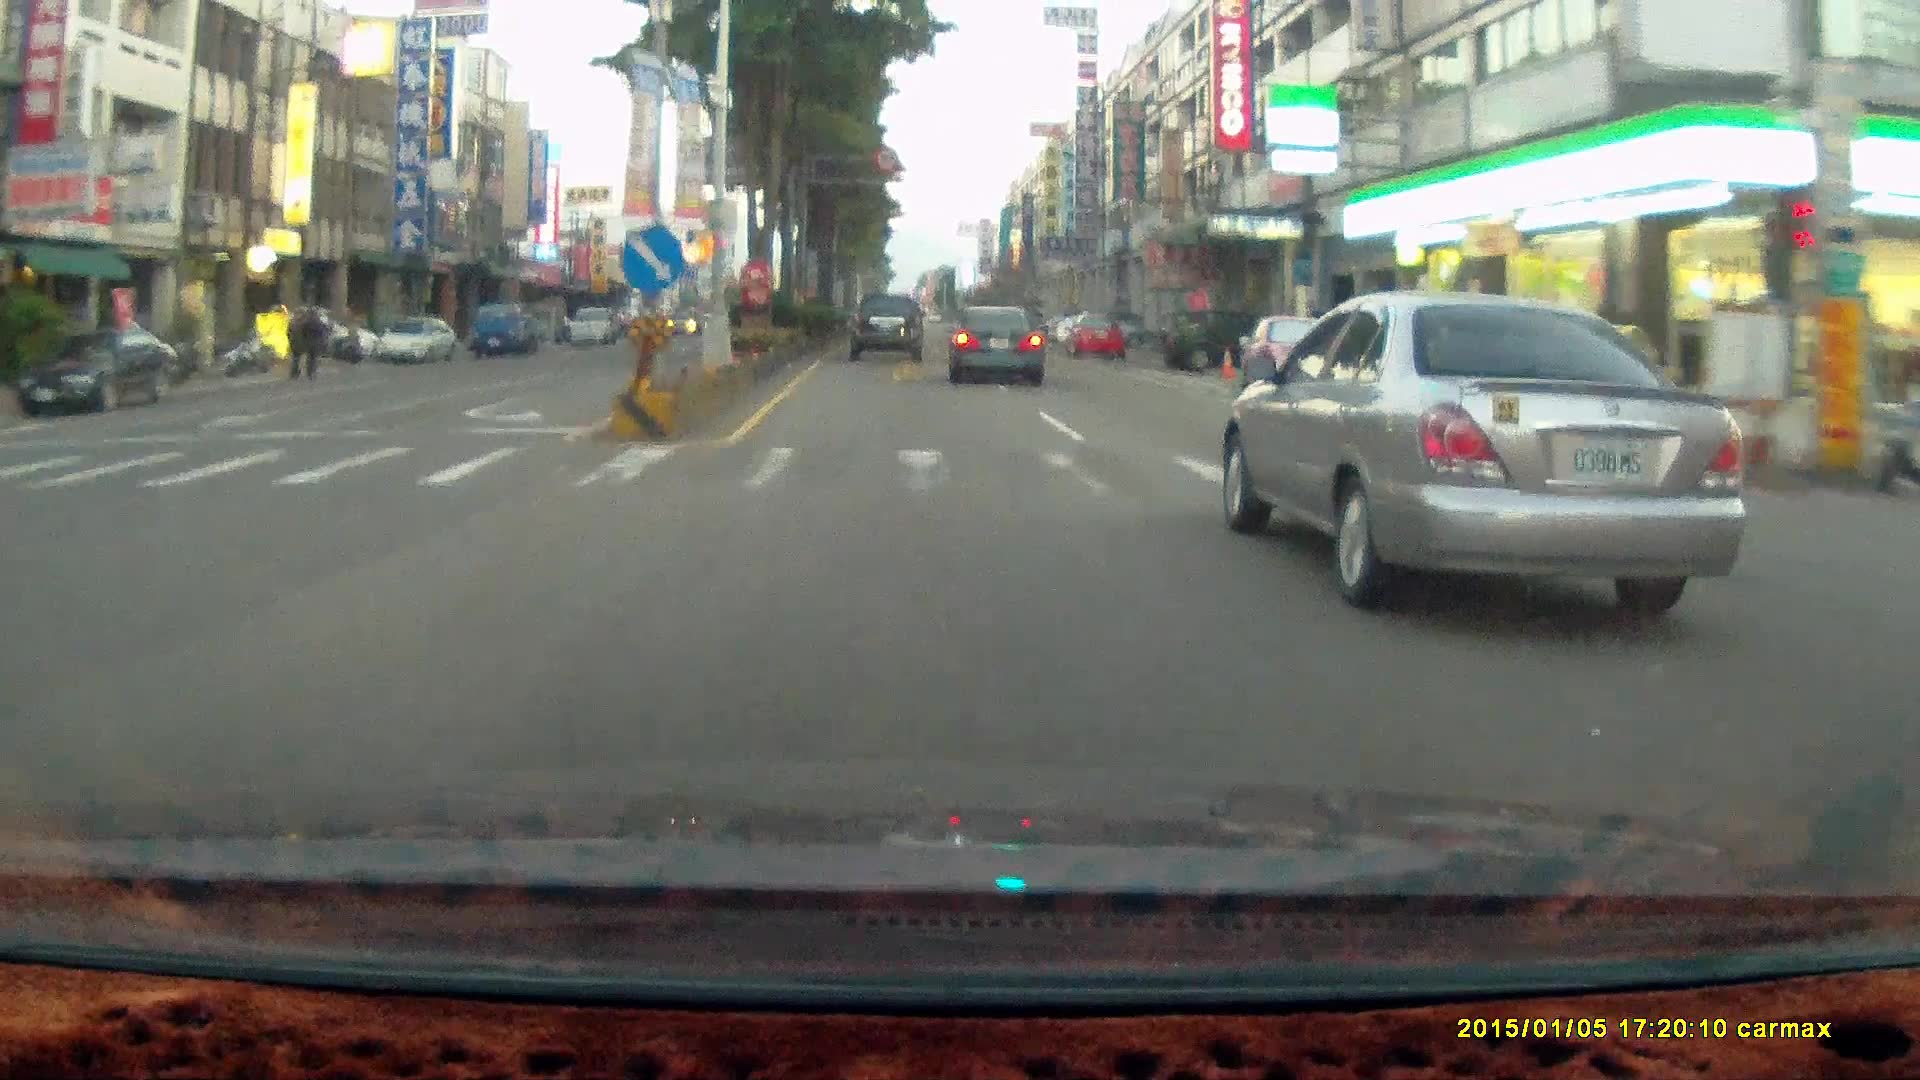pedestrian: (297, 305, 325, 381), (298, 296, 326, 368), (283, 304, 308, 379)
vehicle: (1227, 286, 1747, 625), (1529, 320, 1709, 474), (13, 327, 178, 414), (34, 318, 177, 404), (1246, 310, 1346, 393), (951, 302, 1049, 384), (950, 302, 1043, 384), (1154, 307, 1263, 373), (1154, 304, 1257, 370), (1237, 313, 1328, 383), (849, 293, 928, 366), (847, 290, 924, 360), (474, 295, 556, 351), (378, 314, 459, 366), (468, 301, 539, 357), (374, 314, 456, 360), (1065, 311, 1130, 363), (1065, 311, 1124, 358), (568, 305, 616, 343)
